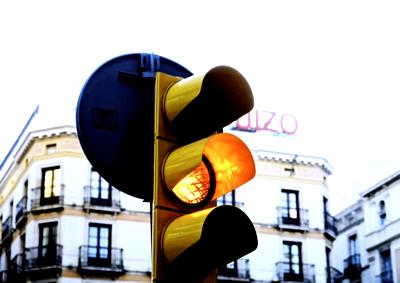International Road Signal Light: (156, 70, 259, 282)
